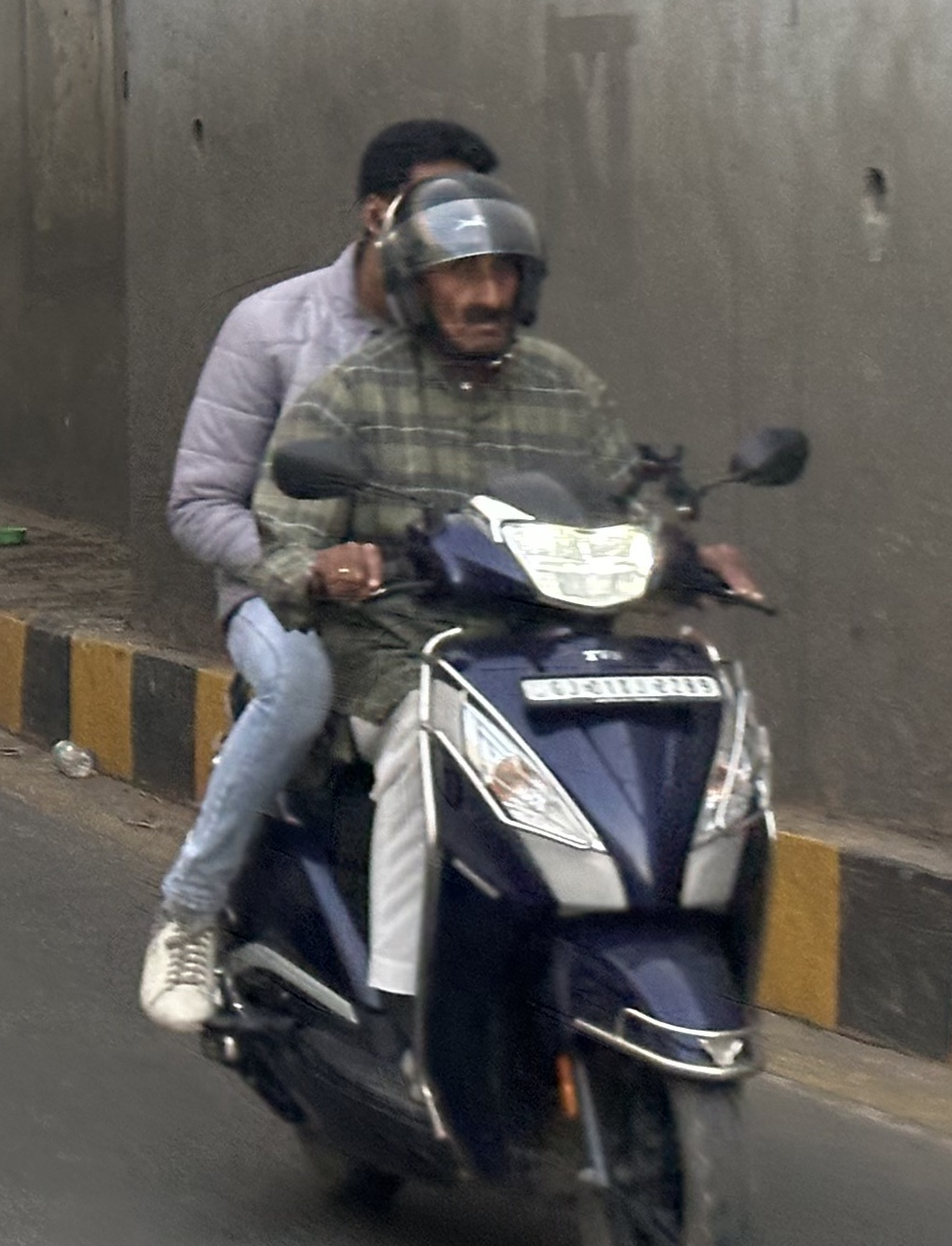BikeWithRider: (129, 87, 864, 1246)
Helmet: (388, 162, 551, 354)
NoHelmet: (343, 122, 494, 286)
